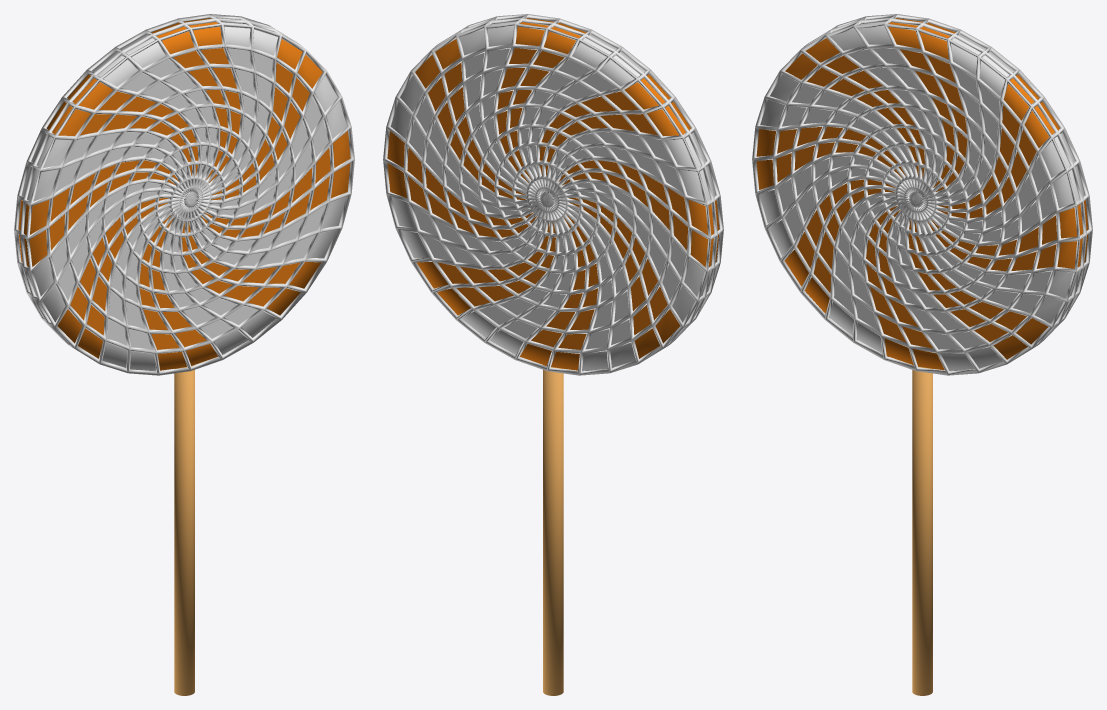
File: PIRULETA CON LUCES 2.fbx
3 views of the same model, side by side, from view 1: azimuth 30°, elevation 25°; view 2: azimuth 150°, elevation 25°; view 3: azimuth 330°, elevation 25° (orthographic).
Visible parts, largest first — view 1: Piruleta 2.005; view 2: Piruleta 2.005; view 3: Piruleta 2.005.
Part boxes in pixels (x1=…): Piruleta 2.005: x1=14, y1=14, x2=354, y2=695; Piruleta 2.005: x1=383, y1=14, x2=723, y2=695; Piruleta 2.005: x1=752, y1=14, x2=1092, y2=695.
Size of the model in its own units: 909 by 1766 by 65.02.
